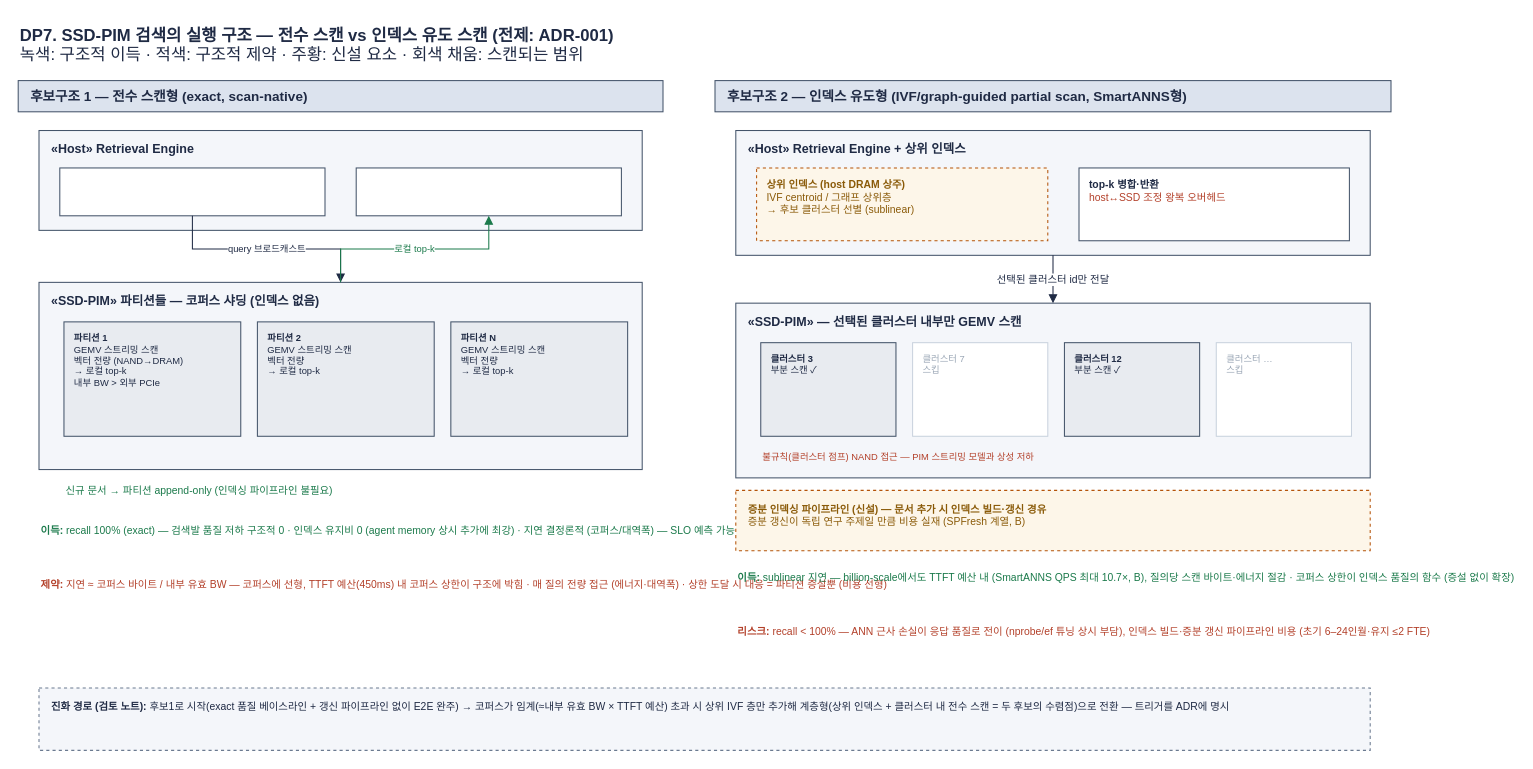
Some shapes in this 1533 by 769 pixel diagram are drawn without their labels. Here are the shapes that lost their labels. From the top down, the centre of each, then its label:
At (x=192, y=191): "질의 임베딩 브로드캐스트 전 파티션 동시 발행".
At (x=488, y=191): "전역 top-k 병합 파티션별 로컬 top-k 수집".
